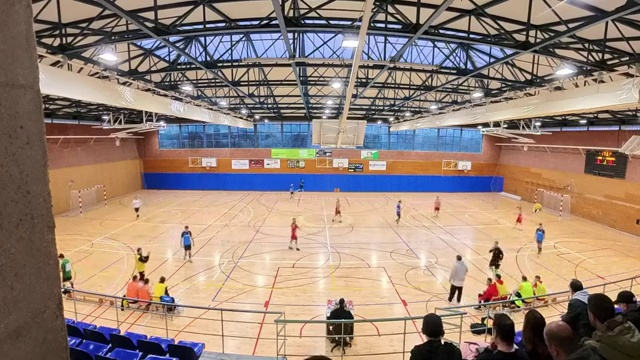players blue shirt: (183, 226, 192, 259), (535, 223, 544, 252), (396, 201, 401, 222), (290, 184, 294, 197)
players red shirt: (288, 218, 298, 250), (332, 198, 339, 222), (433, 196, 438, 215), (516, 209, 522, 224)
